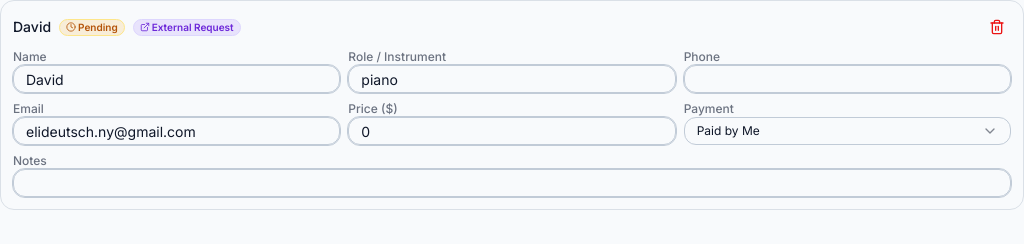
Test case: ColleagueCard (Edit bookings colleague row) › lets you switch Payment to 'Paid by Organizer' and saves that choice immediately
The image size is (1024, 244).
Click the dropdown at (728, 130), box [684, 117, 1011, 145]
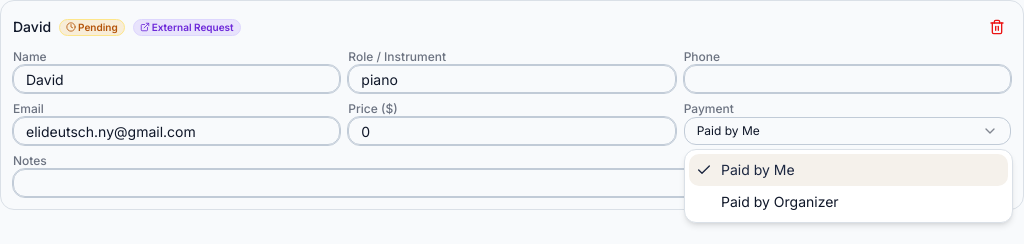
Click the option "Paid by Organizer" at (780, 202), box [721, 193, 839, 210]
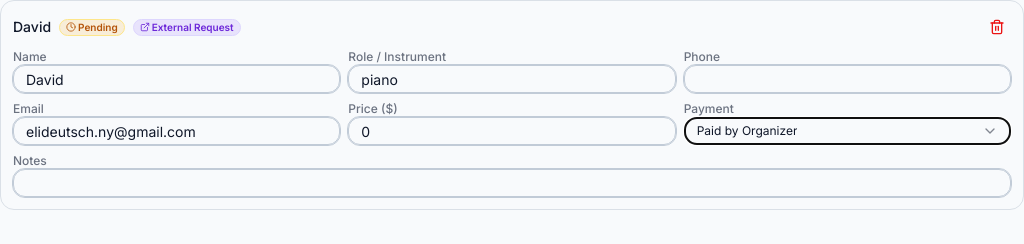
Now the dropdown reads "Paid by Organizer", box [684, 117, 1011, 145]
